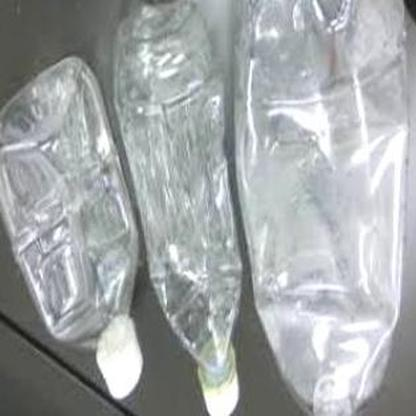plastic bottle: (237, 1, 414, 416), (113, 3, 242, 416), (1, 55, 145, 399)
